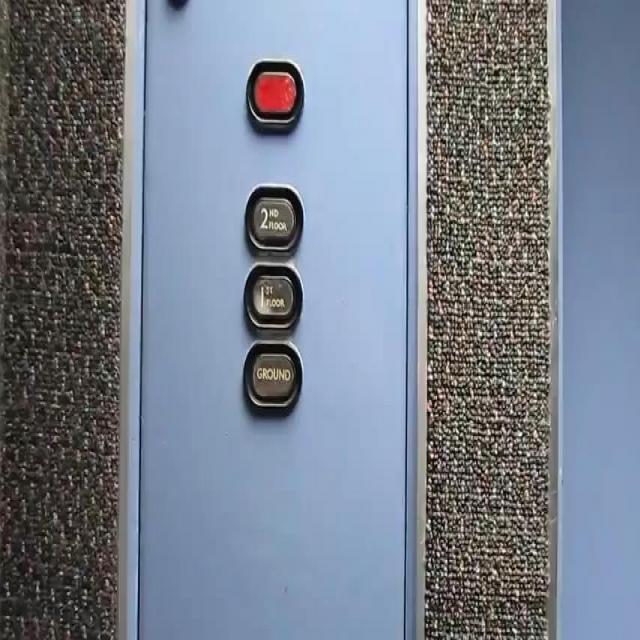1: (242, 257, 304, 331)
2: (240, 178, 304, 254)
empty: (244, 54, 304, 130)
text_GROUND: (242, 337, 304, 416)
